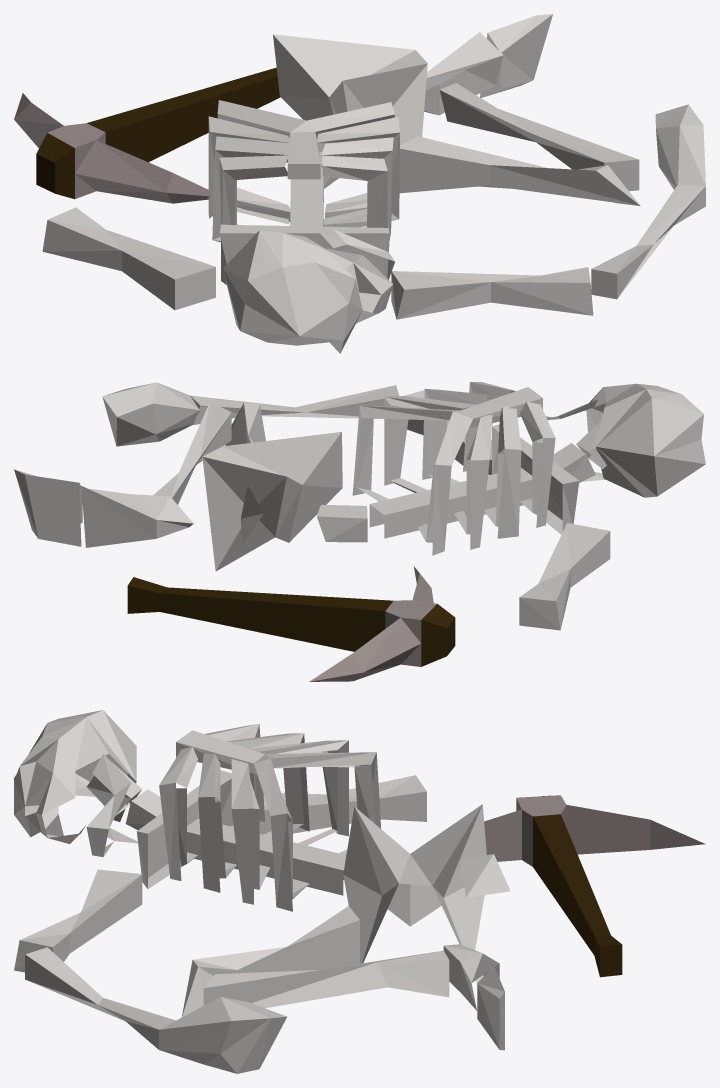
Rendered from obj_buried_skeleton_3_0.obj.
3 renders of one model, top to bottom at view 1: azimuth 30°, elevation 25°; view 2: azimuth 150°, elevation 25°; view 3: azimuth 270°, elevation 25°, orthographic. The views are drawn at different scales.
Size of the model in its own units: 0.9141 by 0.2188 by 0.9688.
